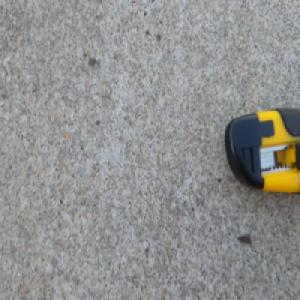Cutter: (221, 106, 300, 197)
